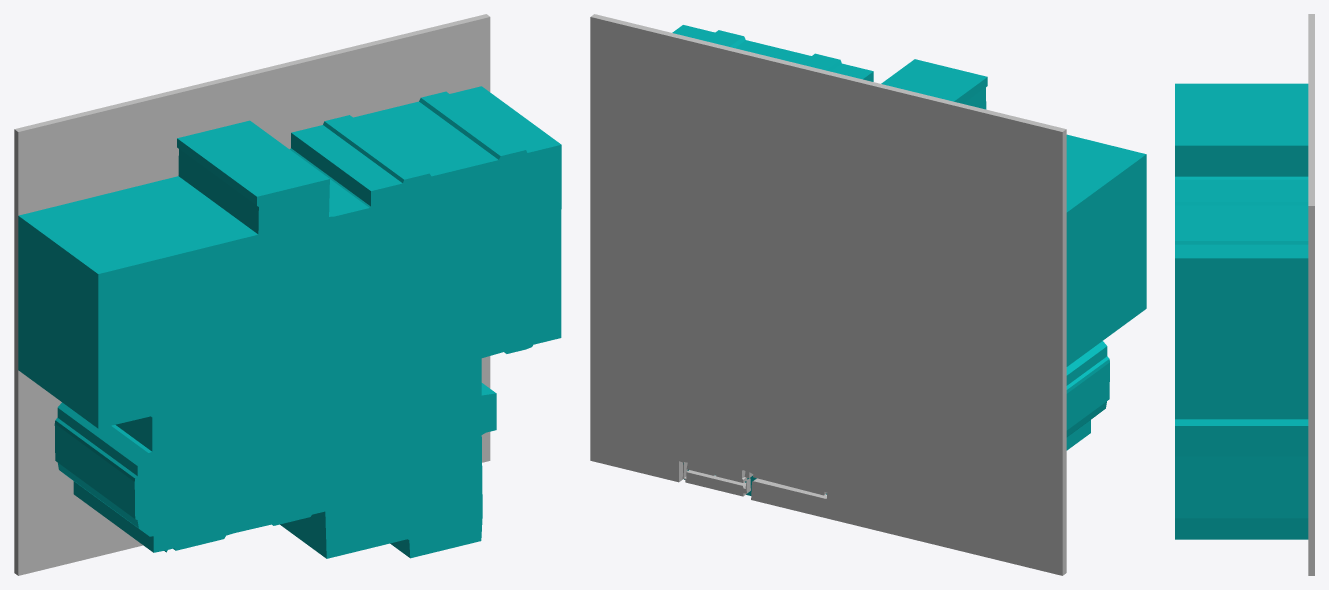
3 views of the same model, side by side, from view 1: azimuth 30°, elevation 25°; view 2: azimuth 150°, elevation 25°; view 3: azimuth 270°, elevation 25° (orthographic). The views are drawn at different scales.
Parts seen in each view (by area): view 1: world; view 2: world; view 3: world.
Boxes of the visible parts, left/top/right/bottom form: world: left=14, top=14, right=561, bottom=575; world: left=590, top=14, right=1146, bottom=575; world: left=1175, top=14, right=1314, bottom=575.
Size of the model in its own units: 10.23 by 9.19 by 3.15.
